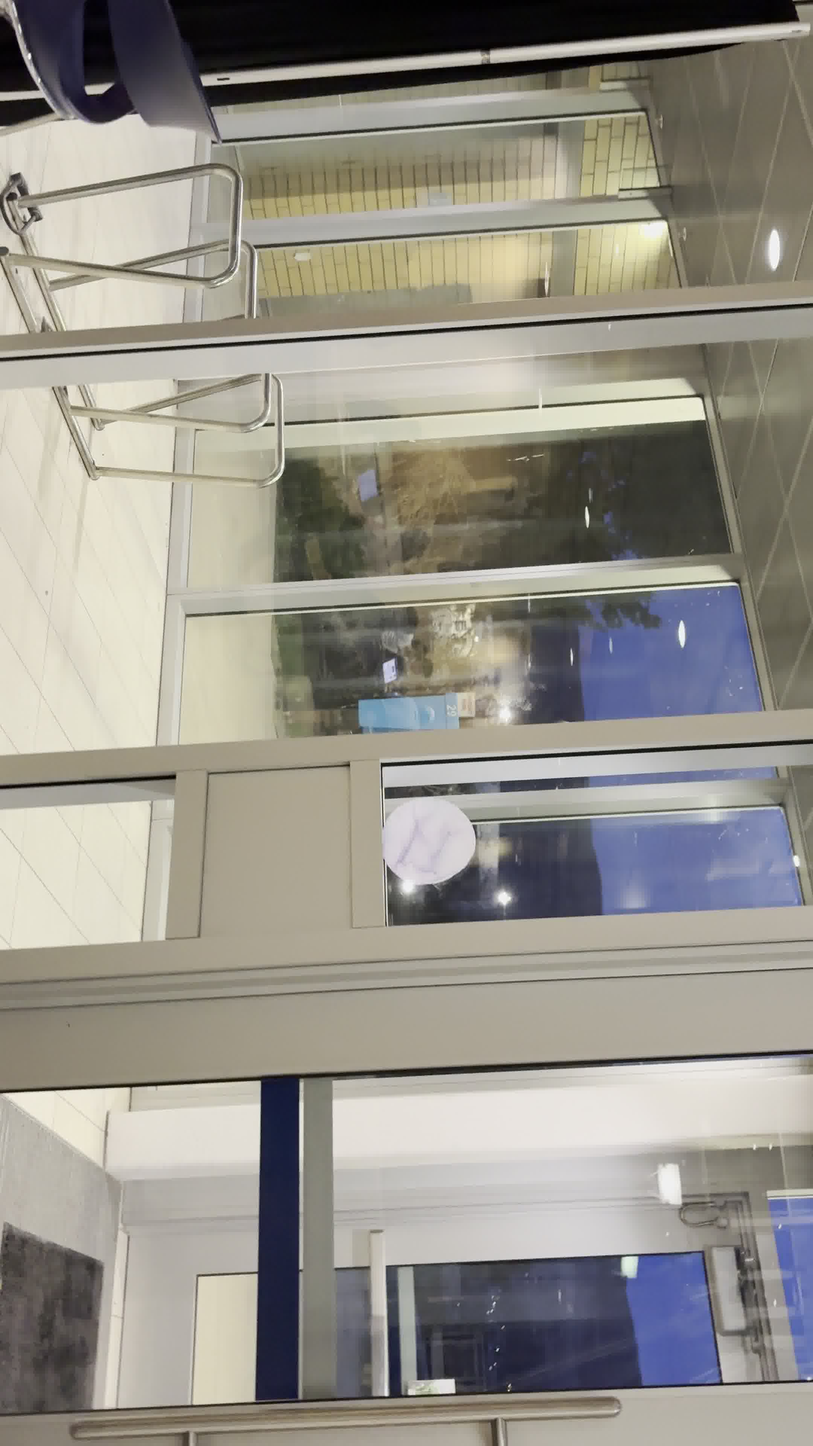Target: (379, 795, 478, 887)
